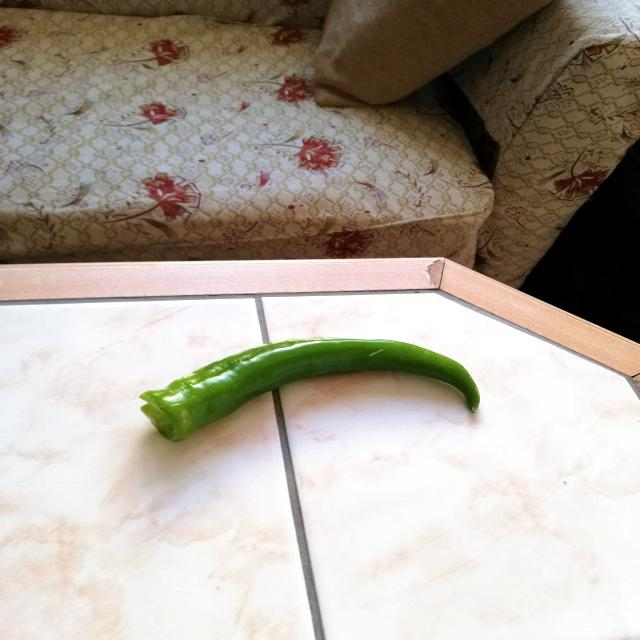green pepper: (136, 332, 482, 446)
